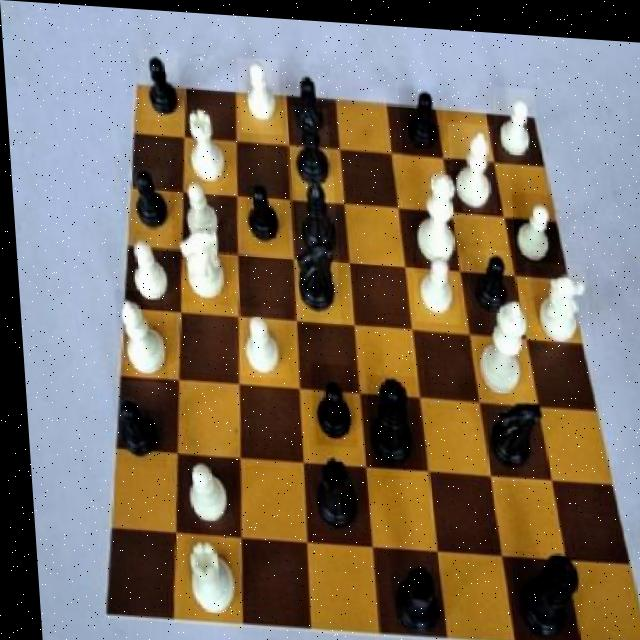bishop: (293, 169, 336, 258), (289, 103, 331, 191)
black-bishop: (501, 543, 578, 639)
black-king: (478, 390, 540, 477), (287, 227, 338, 322)
black-knight: (108, 385, 161, 467), (304, 358, 351, 442), (459, 242, 509, 317), (284, 59, 330, 134), (397, 81, 443, 154), (138, 47, 180, 120), (124, 165, 169, 232), (241, 175, 281, 245)
black-pawn: (361, 369, 416, 467)
black-queen: (378, 554, 438, 640), (301, 447, 356, 533)
black-rook: (112, 288, 164, 382), (447, 117, 496, 207)
white-bishop: (466, 287, 529, 394)
white-king: (522, 255, 588, 340), (169, 216, 226, 303)
white-knight: (175, 445, 227, 536), (121, 228, 169, 313), (508, 186, 557, 269), (229, 304, 285, 375), (170, 167, 216, 248), (492, 79, 539, 157), (407, 243, 455, 318), (236, 53, 281, 131)
white-pawn: (404, 161, 464, 270)
white-queen: (166, 535, 232, 616), (179, 100, 230, 183)
